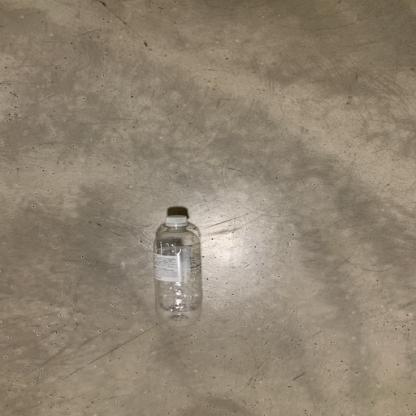trash: (152, 213, 204, 329)
